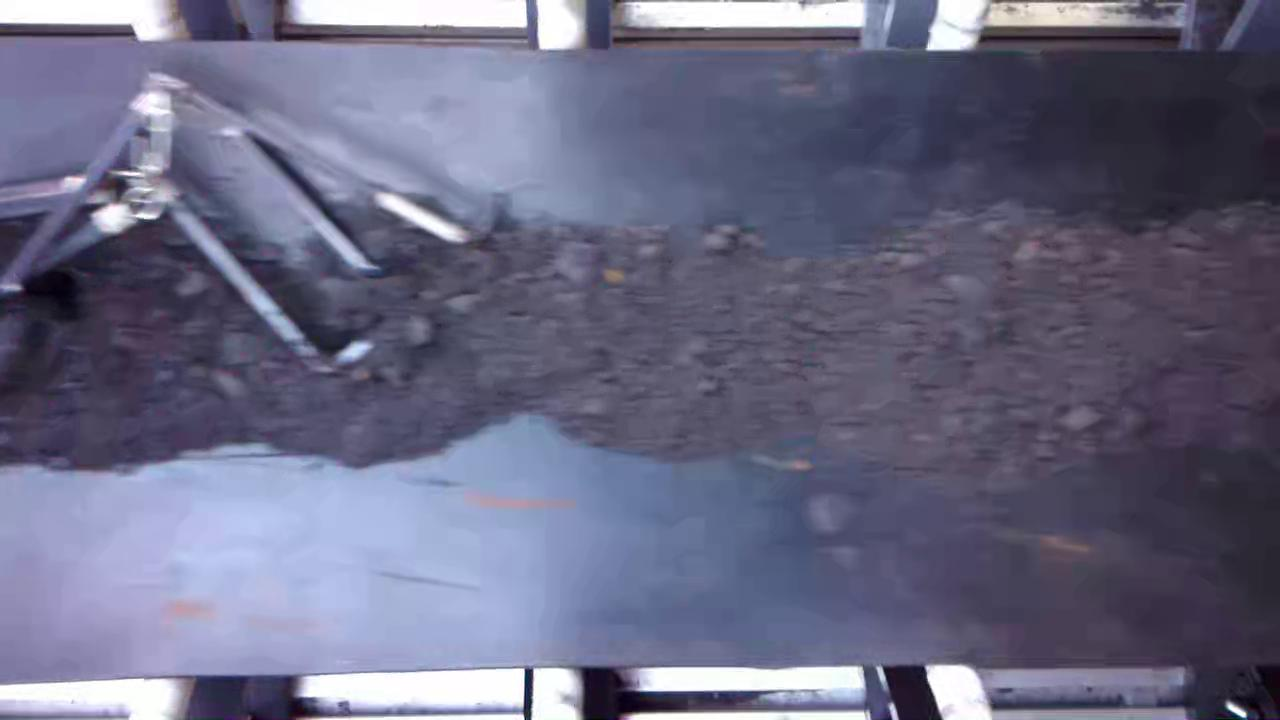conveyor: (1, 52, 1280, 661)
